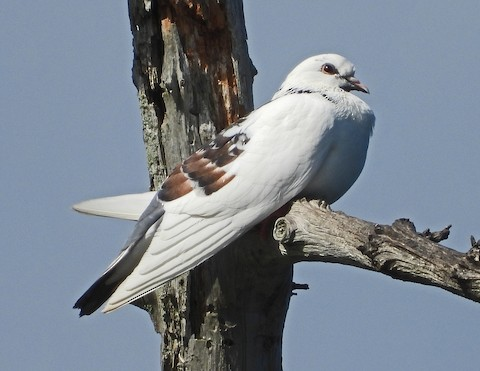pigeon: (65, 47, 380, 325)
